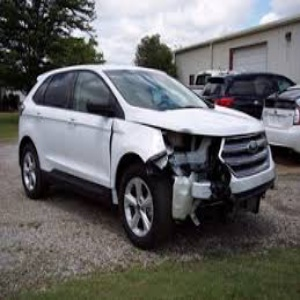bumper: (165, 164, 242, 225)
